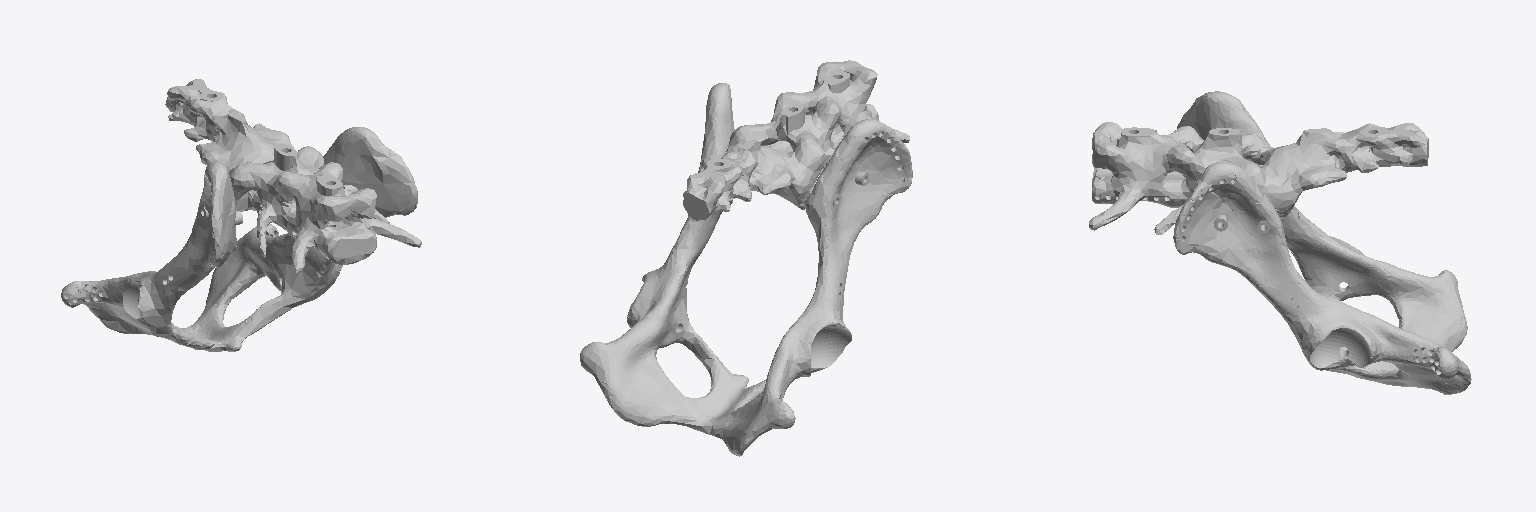
Rendered from pelvis.obj.
3 renders of one model, left to right at view 1: azimuth 30°, elevation 25°; view 2: azimuth 150°, elevation 25°; view 3: azimuth 270°, elevation 25°, orthographic.
Parts seen in each view (by area): view 1: Spine; view 2: Spine; view 3: Spine.
Part boxes in pixels (x1,y1,x2,y2): Spine: (61,79,421,351); Spine: (580,60,912,456); Spine: (1089,91,1471,394).
Bounding box in the file's own units: 128 × 144 × 192.